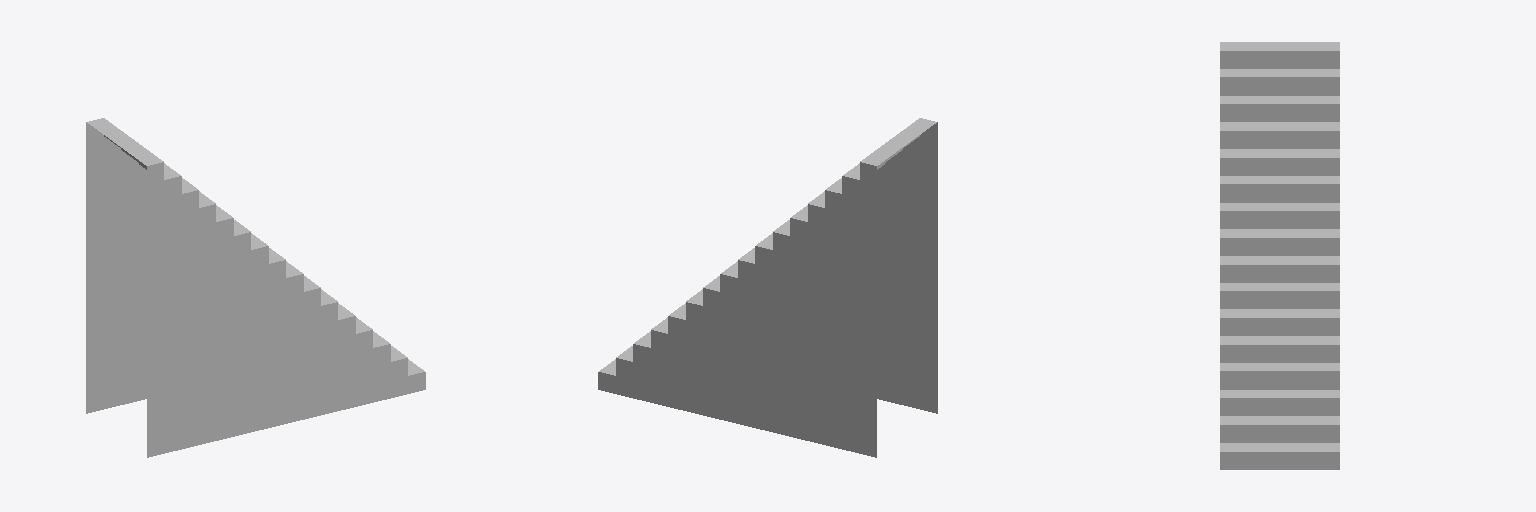
File: stair3.obj
3 renders of one model, left to right at view 1: azimuth 30°, elevation 25°; view 2: azimuth 150°, elevation 25°; view 3: azimuth 270°, elevation 25°, orthographic.
Visible parts, largest first — view 1: model; view 2: model; view 3: model.
Part boxes in pixels (bbox=[...]): model: bbox=[86, 118, 425, 457]; model: bbox=[598, 118, 937, 457]; model: bbox=[1220, 42, 1339, 469].
Bounding box in the file's own units: 1 × 1 × 0.375.